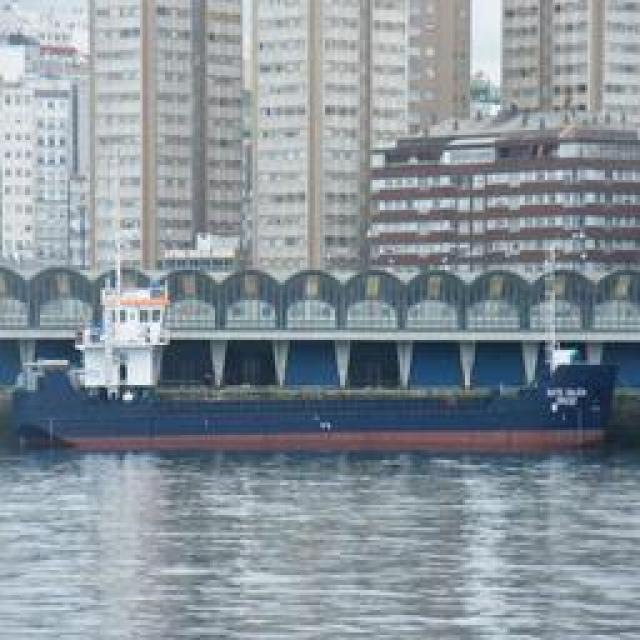CIV_Ship: (5, 319, 630, 449)
